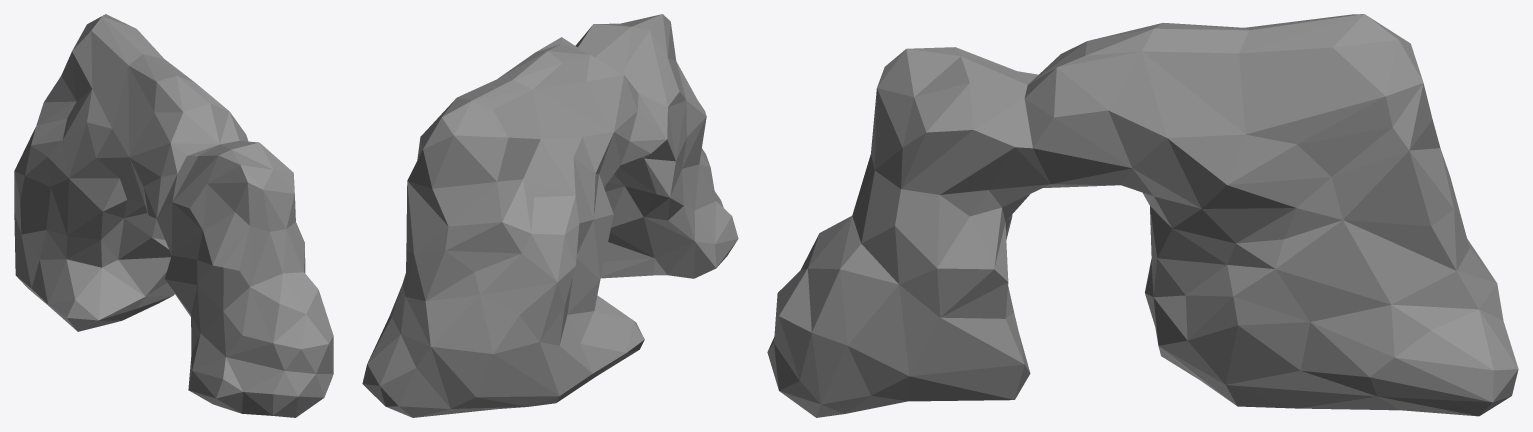
File: Rock_9.fbx
The picture shows the model from 3 angles, left to right: view 1: azimuth 30°, elevation 25°; view 2: azimuth 150°, elevation 25°; view 3: azimuth 270°, elevation 25°; orthographic projection. The views are drawn at different scales.
Parts seen in each view (by area): view 1: Rock_9; view 2: Rock_9; view 3: Rock_9.
Boxes of the visible parts, x1=… form: Rock_9: x1=14, y1=14, x2=333, y2=417; Rock_9: x1=362, y1=14, x2=738, y2=417; Rock_9: x1=767, y1=14, x2=1518, y2=417.
Bounding box in the file's own units: 249 × 384 × 676.
